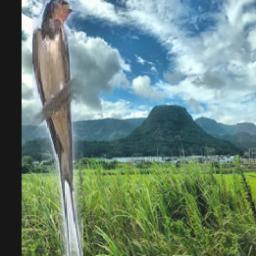Swallow: (32, 0, 83, 256)
